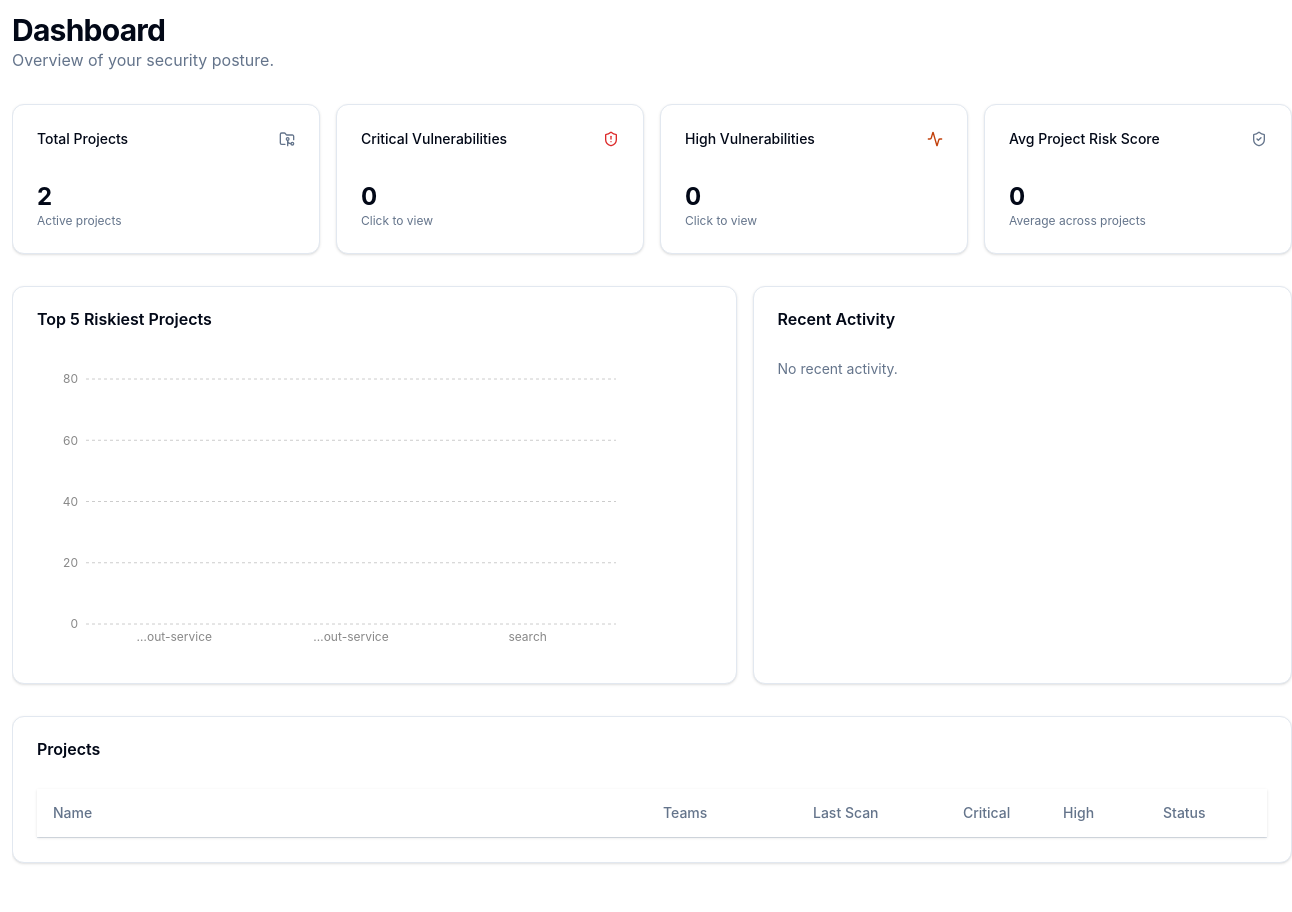
Dashboard riskiest projects chart › names the owner and the risk of each bar whose project name another bar shares in its tooltip
Focus the element with class "recharts-wrapper" at [321, 509], box [21,359,621,659]
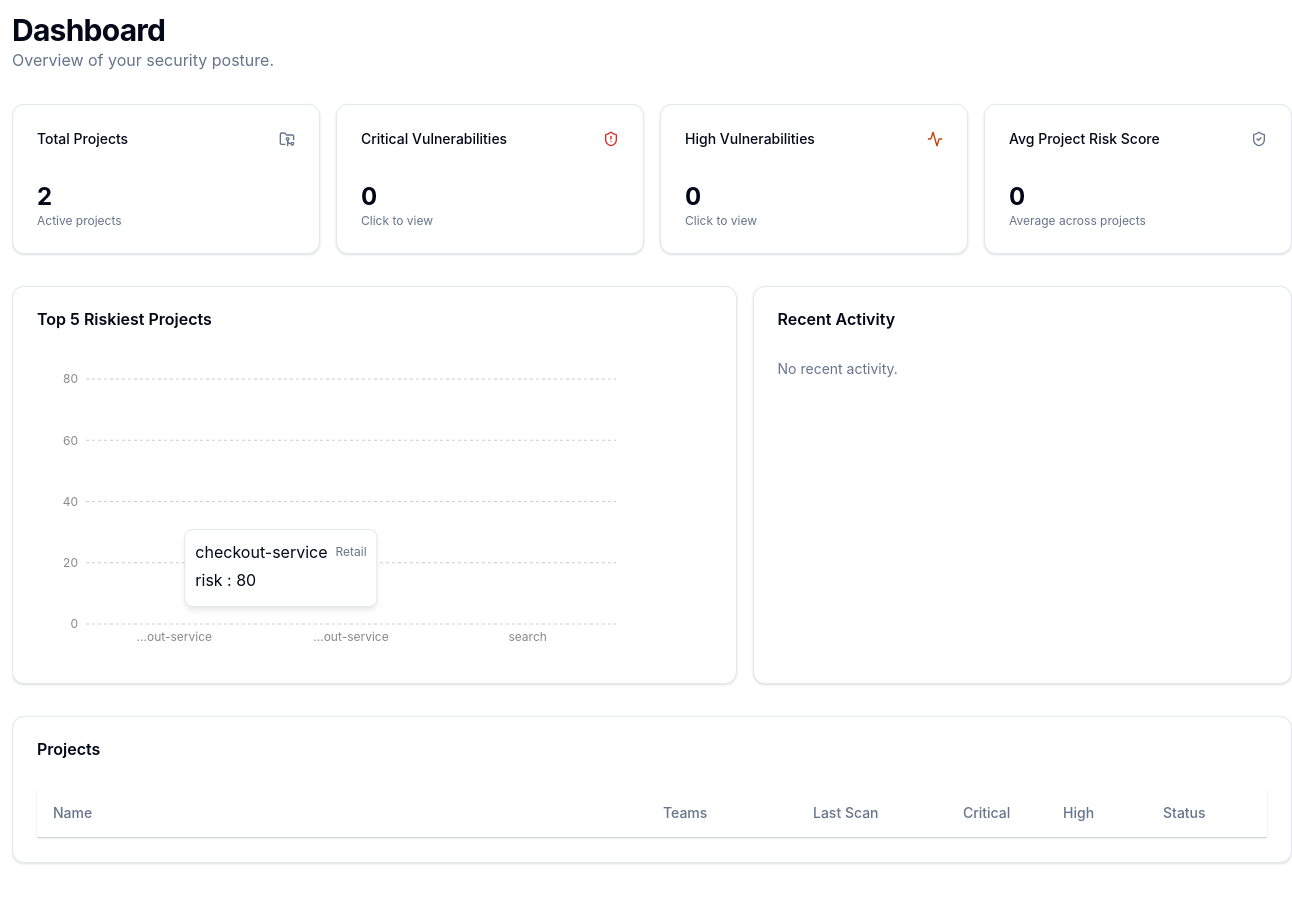
Expected: the text "Payments" is not shown
Expected: the text "Retail" is shown, [336,544,367,560]
Press ArrowRight in the element with class "recharts-wrapper", box [21,359,621,659]
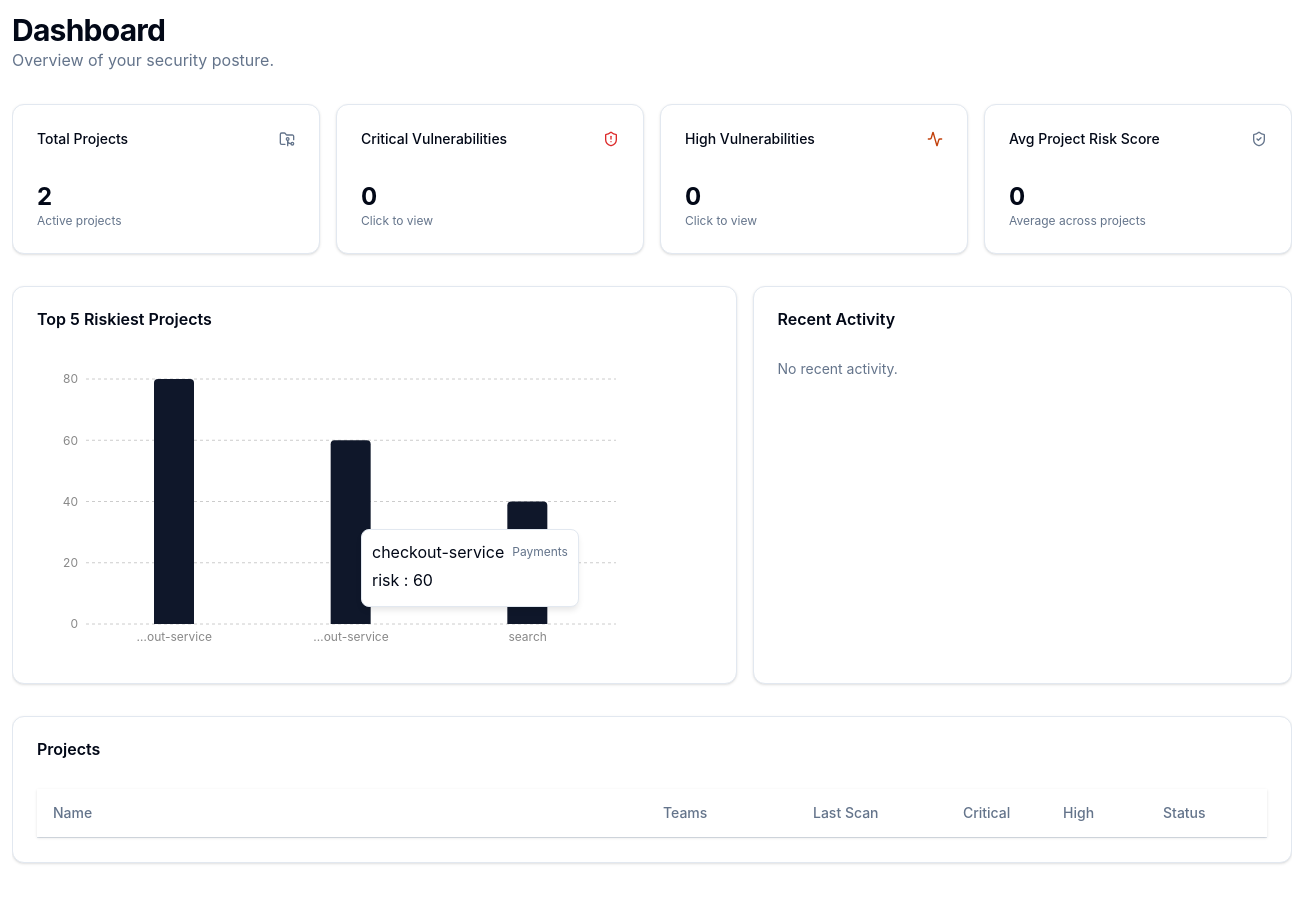
Expected: the text "Payments" is shown, [512,544,568,560]
Expected: the text with class "recharts-tooltip-item-value" reads "60", [413,570,433,590]
